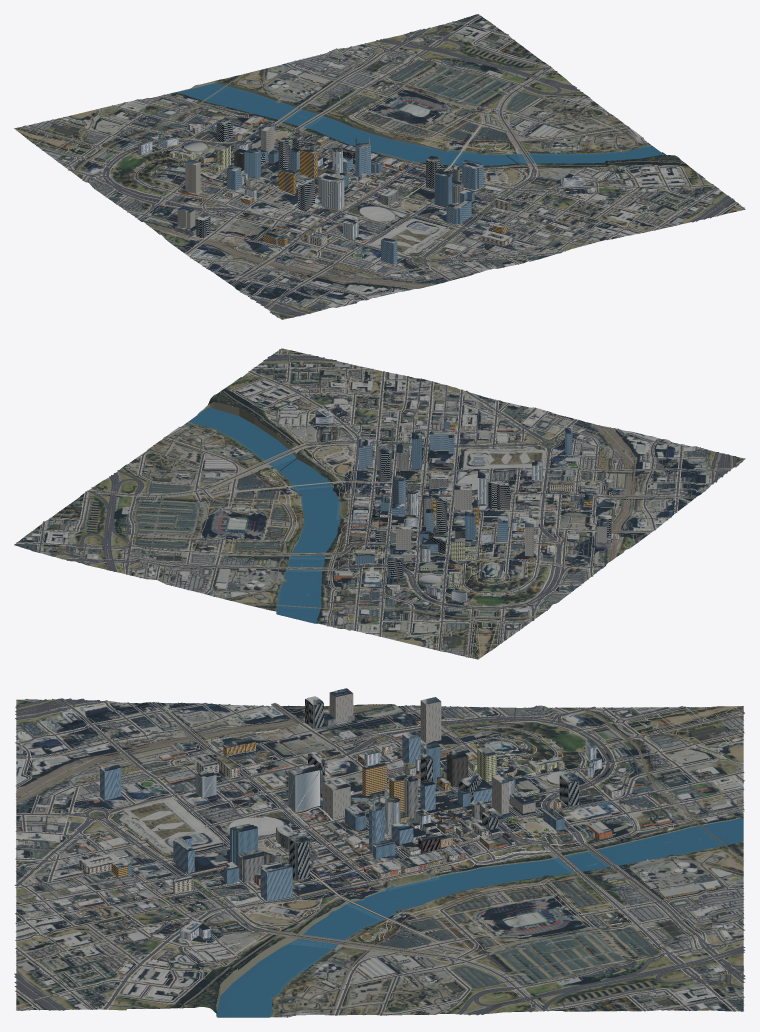
The model's file is nashville.glb.
3 renders of one model, top to bottom at view 1: azimuth 30°, elevation 25°; view 2: azimuth 150°, elevation 25°; view 3: azimuth 270°, elevation 25°, orthographic. The views are drawn at different scales.
Parts seen in each view (by area): view 1: terrain, roads (×4), walls (×11), sidewalks, water, railways, quays; view 2: terrain, roads (×4), sidewalks, walls (×10), water, railways, quays; view 3: terrain, roads (×4), walls (×16), sidewalks, water, railways, quays.
Part boxes in pixels (x1,y1,x2,y2): terrain: (14, 14, 745, 319); roads (×4): (14, 14, 744, 317); walls (×11): (138, 72, 586, 267); sidewalks: (22, 15, 744, 317); water: (177, 83, 664, 178); railways: (74, 68, 685, 288); quays: (98, 37, 698, 295); terrain: (14, 348, 745, 659); roads (×4): (14, 348, 742, 659); sidewalks: (17, 349, 742, 657); walls (×10): (185, 404, 612, 605); water: (189, 407, 489, 623); railways: (148, 390, 637, 626); quays: (51, 366, 706, 626); terrain: (16, 688, 743, 1017); roads (×4): (14, 698, 745, 1017); walls (×16): (62, 693, 721, 982); sidewalks: (14, 698, 745, 1015); water: (216, 763, 743, 1017); railways: (16, 704, 743, 1015); quays: (20, 707, 743, 1013).
Bounding box in the file's own units: 2214 × 187 × 2214.
Materials: 66 (66 with a texture image).
